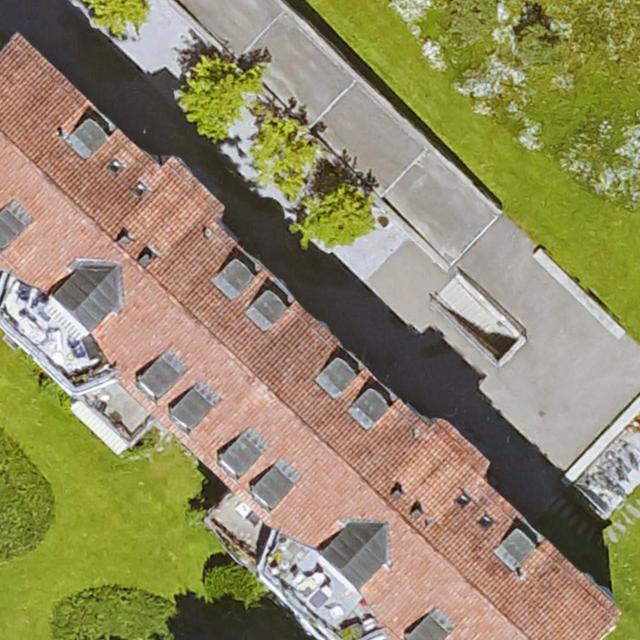tree: (179, 54, 259, 136), (254, 108, 309, 197), (298, 183, 371, 244), (71, 0, 152, 30), (207, 565, 255, 605)
